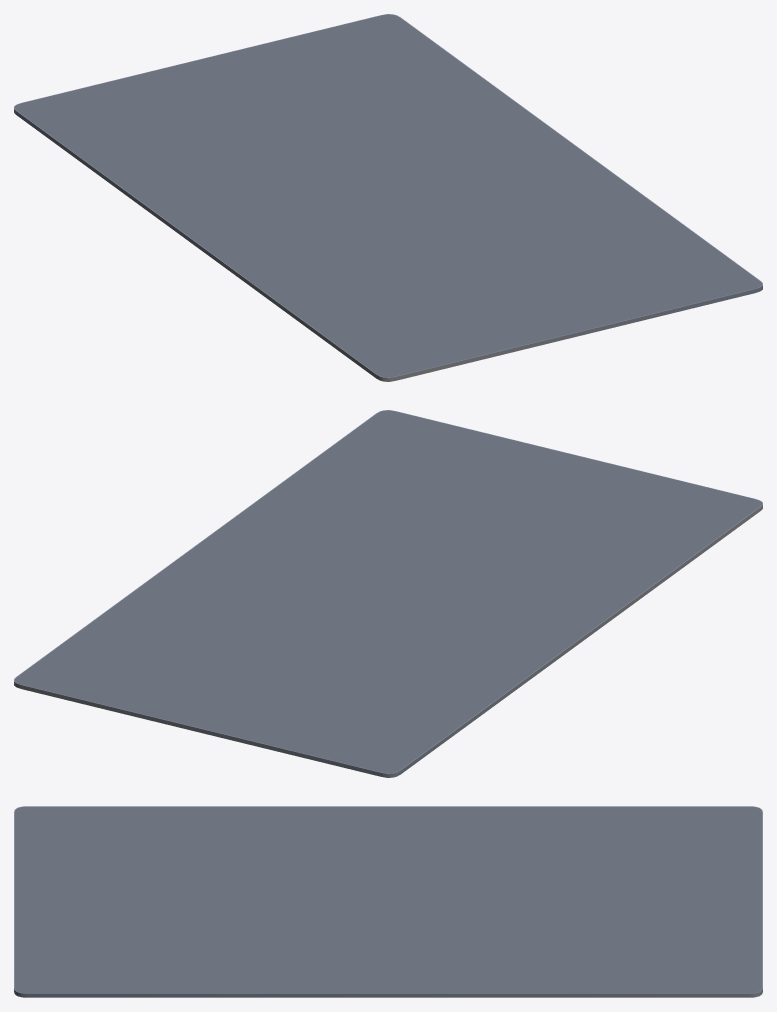
File: Anden_2.FBX
3 views of the same model, one above another, from view 1: azimuth 30°, elevation 25°; view 2: azimuth 150°, elevation 25°; view 3: azimuth 270°, elevation 25° (orthographic).
Parts seen in each view (by area): view 1: Anden; view 2: Anden; view 3: Anden.
Part boxes in pixels (x1,y1,x2,y2): Anden: [14, 14, 762, 381]; Anden: [14, 410, 762, 777]; Anden: [14, 806, 762, 997].
Size of the model in its own units: 2007 by 3386 by 20.
